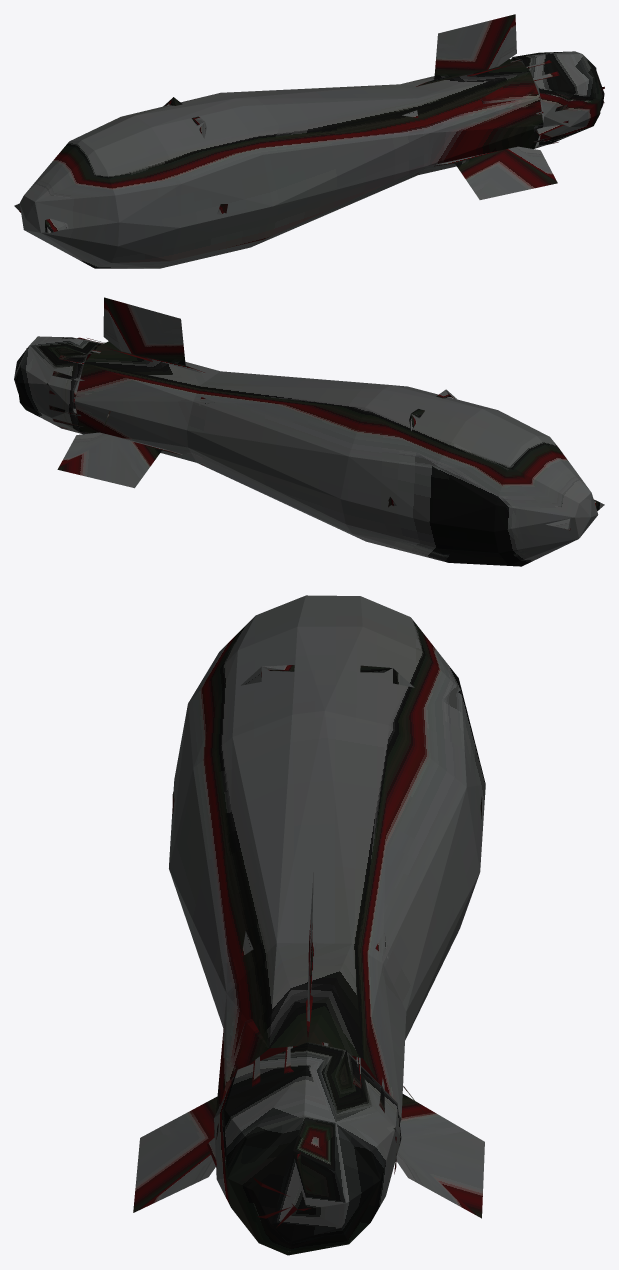
3 renders of one model, top to bottom at view 1: azimuth 30°, elevation 25°; view 2: azimuth 150°, elevation 25°; view 3: azimuth 270°, elevation 25°, orthographic. The views are drawn at different scales.
Visible parts, largest first — view 1: tsar_an602_0_an602_0; view 2: tsar_an602_0_an602_0; view 3: tsar_an602_0_an602_0.
Boxes of the visible parts, x1,y1,x2,y2 form: tsar_an602_0_an602_0: (14,14,604,268); tsar_an602_0_an602_0: (14,297,604,566); tsar_an602_0_an602_0: (133,595,485,1255).
Size of the model in its own units: 8.98 by 2.5 by 2.44.
Materials: 1 (1 with a texture image).
